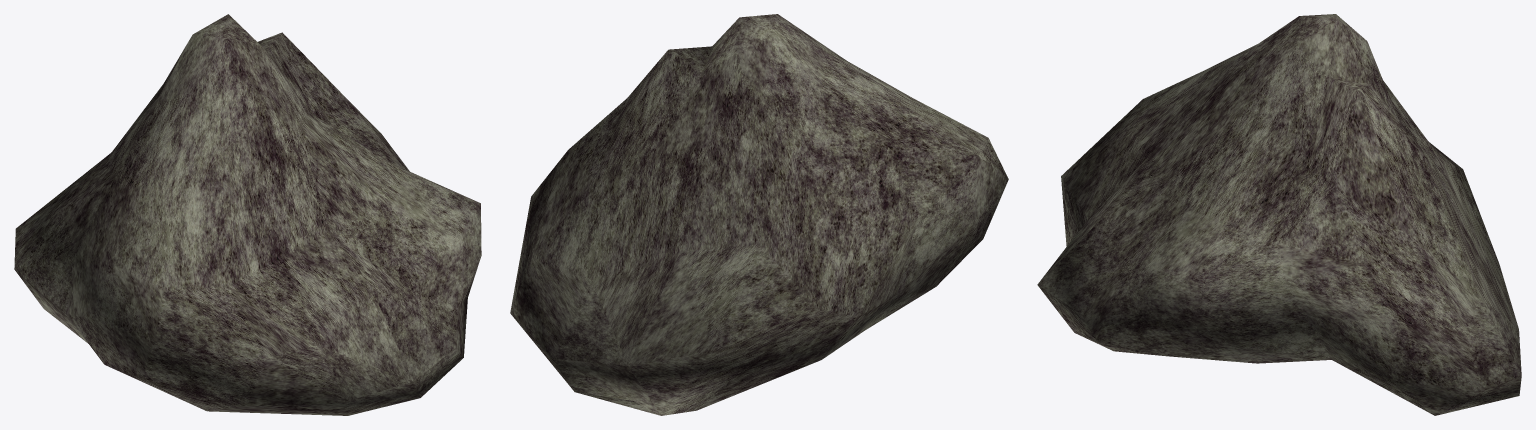
Rendered from fels1.FBX.
The picture shows the model from 3 angles, left to right: view 1: azimuth 30°, elevation 25°; view 2: azimuth 150°, elevation 25°; view 3: azimuth 270°, elevation 25°; orthographic projection. The views are drawn at different scales.
Visible parts, largest first — view 1: fels1; view 2: fels1; view 3: fels1.
Boxes of the visible parts, x1,y1,x2,y2 form: fels1: (14,14,481,415); fels1: (510,14,1008,415); fels1: (1037,14,1521,415).
Bounding box in the file's own units: 140 × 157 × 128.
Materials: 1 (1 with a texture image).
